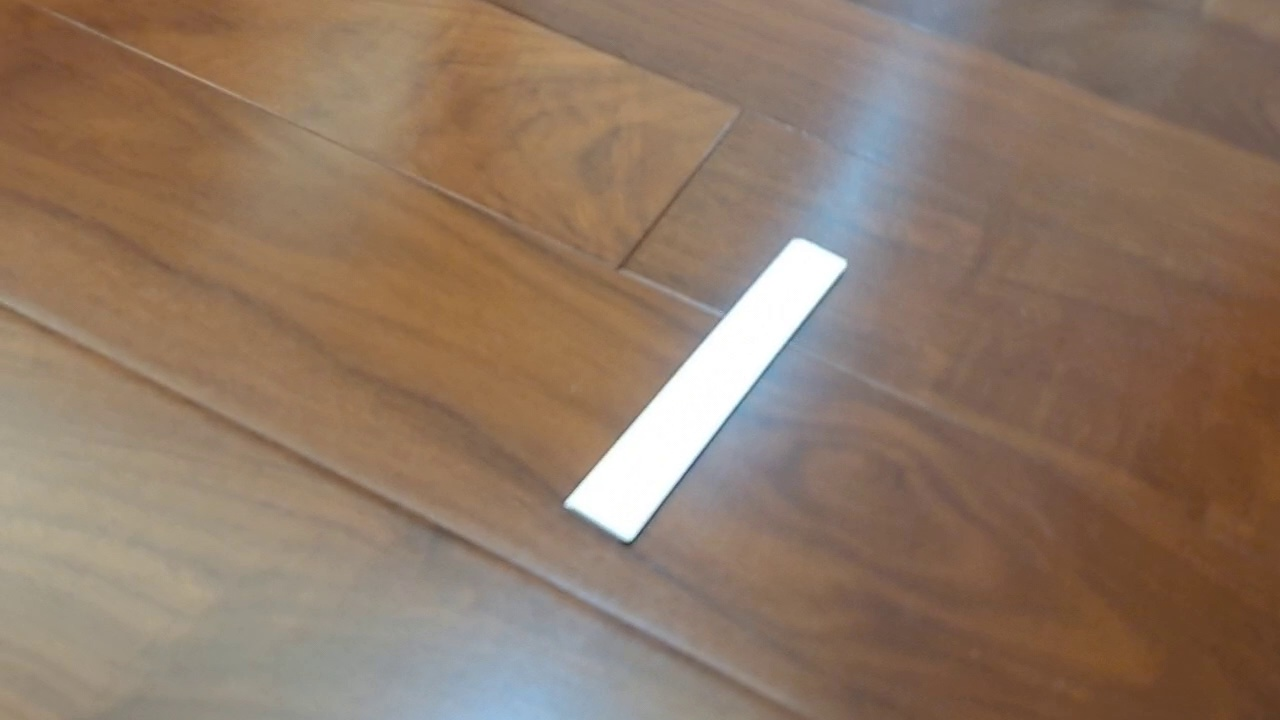ruler: (560, 235, 849, 547)
